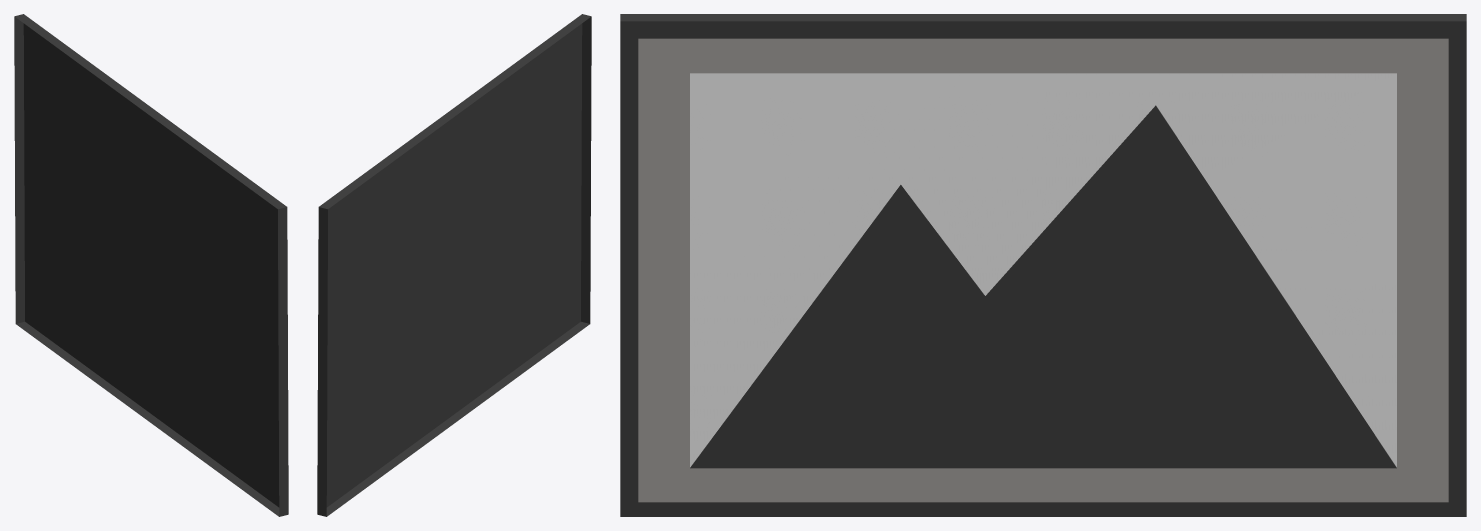
File: Office2_picture.fbx
3 views of the same model, side by side, from view 1: azimuth 30°, elevation 25°; view 2: azimuth 150°, elevation 25°; view 3: azimuth 270°, elevation 25° (orthographic). The views are drawn at different scales.
Parts seen in each view (by area): view 1: Office2_picture; view 2: Office2_picture; view 3: Office2_picture.
Boxes of the visible parts, box(x1,y1,x2,y2) form: Office2_picture: box(14, 14, 288, 516); Office2_picture: box(317, 14, 591, 516); Office2_picture: box(620, 14, 1466, 516).
Size of the model in its own units: 5.51 by 135 by 210.
